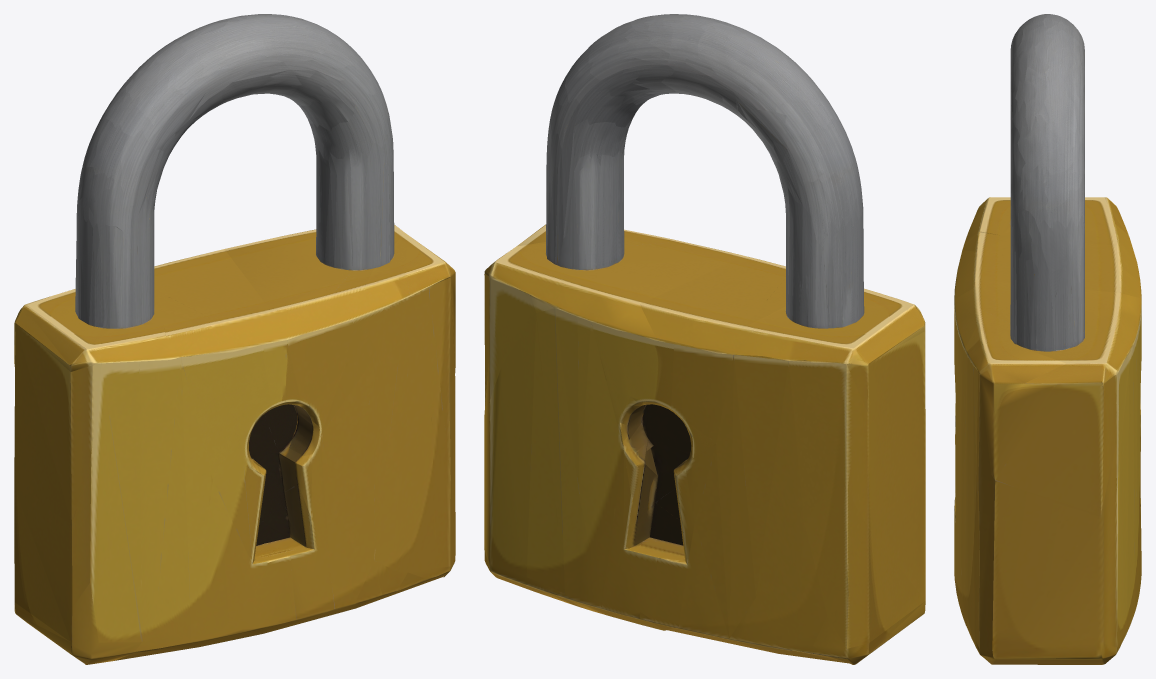
File: padlock_0.glb
3 views of the same model, side by side, from view 1: azimuth 30°, elevation 25°; view 2: azimuth 150°, elevation 25°; view 3: azimuth 270°, elevation 25° (orthographic). The views are drawn at different scales.
Bounding box in the file's own units: 1.32 × 1.9 × 0.5861.
1 material, 1 textured.
